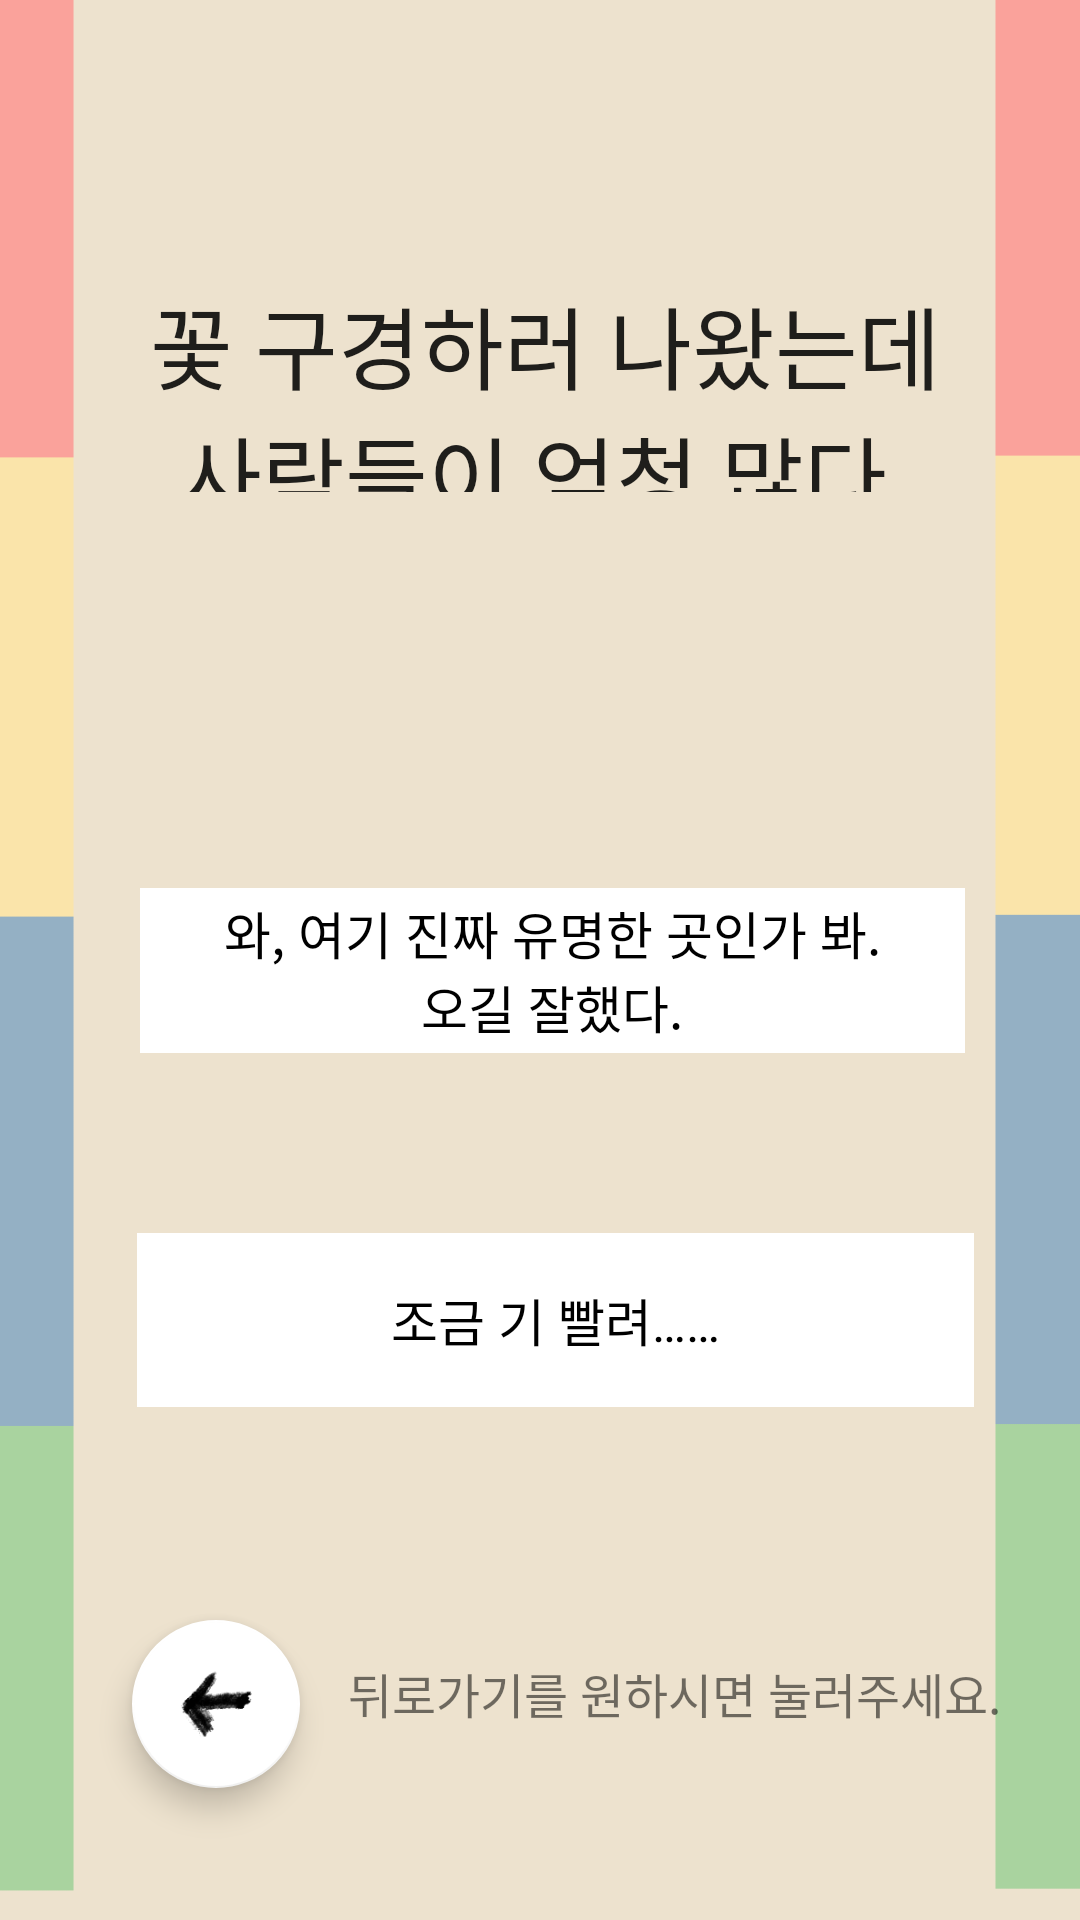

Where icons sit on this 1080w x 1920h app screen, as (x1, y1, x2, y2):
back: (132, 1620, 300, 1788)
